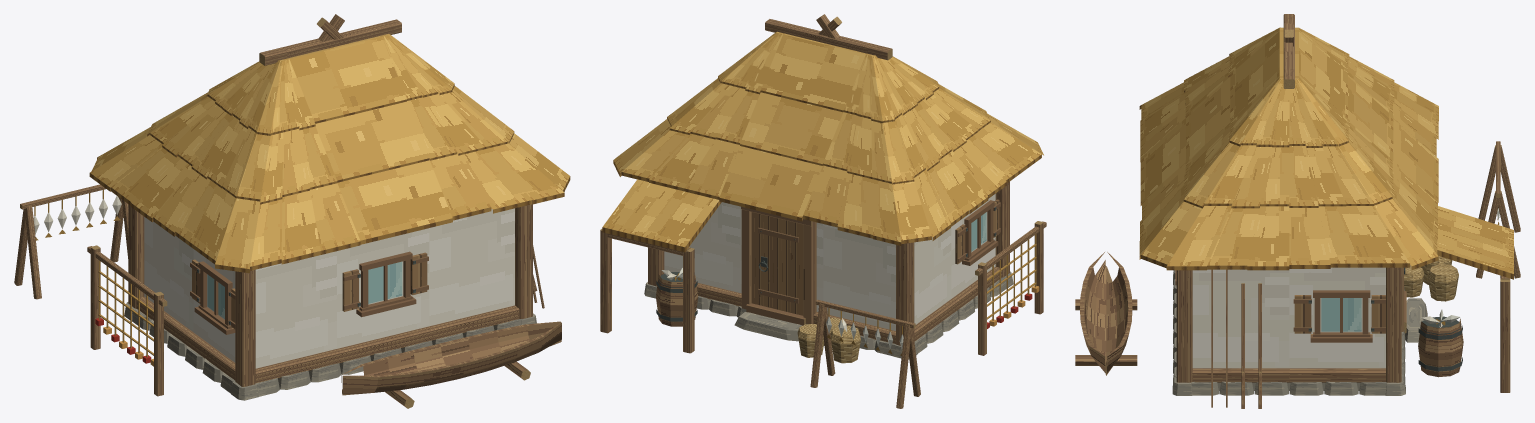
The model's file is angler_hut.glb.
The picture shows the model from 3 angles, left to right: view 1: azimuth 30°, elevation 25°; view 2: azimuth 150°, elevation 25°; view 3: azimuth 270°, elevation 25°; orthographic projection. The views are drawn at different scales.
Visible parts, largest first — view 1: Angler_Hut; view 2: Angler_Hut; view 3: Angler_Hut.
Boxes of the visible parts, x1,y1,x2,y2 form: Angler_Hut: (14, 14, 570, 408); Angler_Hut: (600, 14, 1046, 408); Angler_Hut: (1075, 14, 1520, 408).
Bounding box in the file's own units: 7.1 × 5.32 × 7.19.
Materials: 1 (1 with a texture image).
